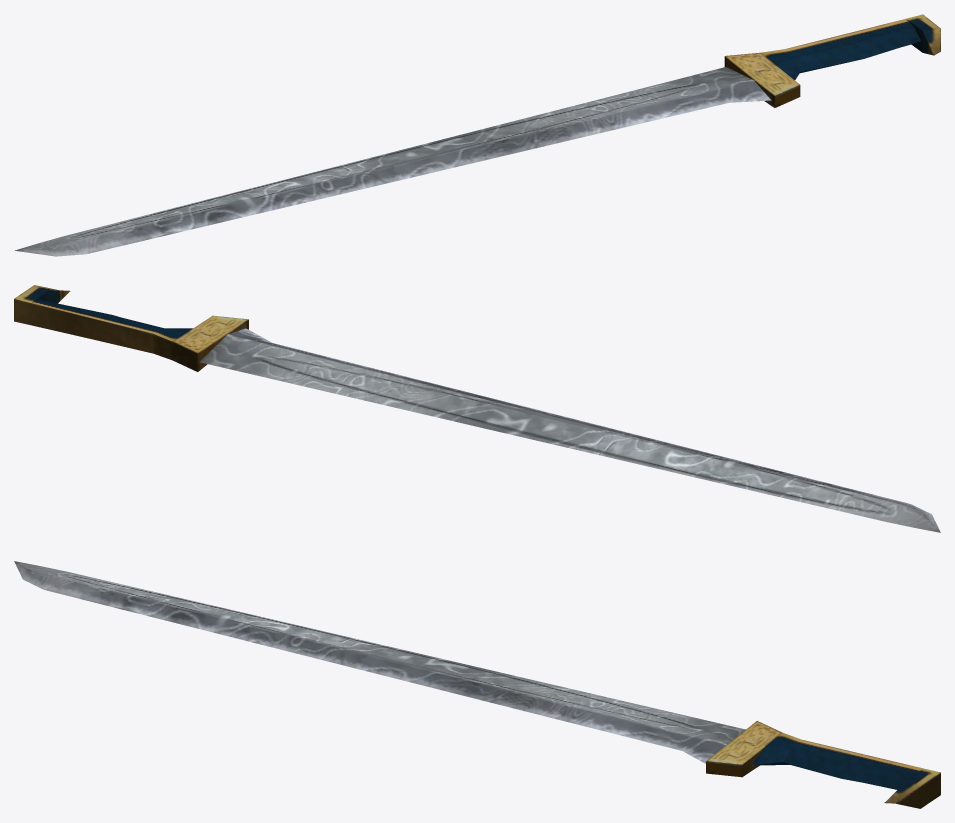
The model's file is KM_ITMW_1H_SWORD_10.glb.
3 renders of one model, top to bottom at view 1: azimuth 30°, elevation 25°; view 2: azimuth 150°, elevation 25°; view 3: azimuth 330°, elevation 25°, orthographic.
Visible parts, largest first — view 1: KM_ITMW_1H_SWORD_10; view 2: KM_ITMW_1H_SWORD_10; view 3: KM_ITMW_1H_SWORD_10.
Boxes of the visible parts, x1=… form: KM_ITMW_1H_SWORD_10: x1=15, y1=14, x2=940, y2=256; KM_ITMW_1H_SWORD_10: x1=14, y1=285, x2=940, y2=532; KM_ITMW_1H_SWORD_10: x1=14, y1=561, x2=940, y2=808.
Bounding box in the file's own units: 1.08 × 0.0253 × 0.1032.
Materials: 1 (1 with a texture image).
